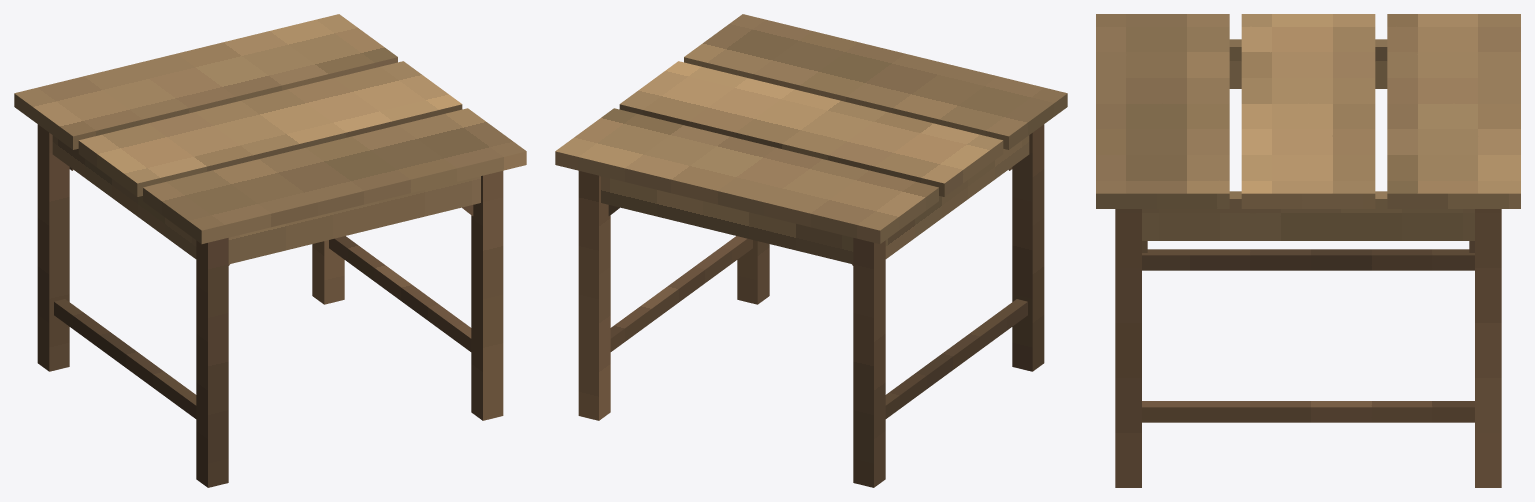
File: wood-square-table.glb
3 renders of one model, left to right at view 1: azimuth 30°, elevation 25°; view 2: azimuth 150°, elevation 25°; view 3: azimuth 270°, elevation 25°, orthographic. The views are drawn at different scales.
Visible parts, largest first — view 1: wood-square-table/top-board-0, wood-square-table/top-board-1, wood-square-table/top-board-2, wood-square-table/leg--0.37--0.37, wood-square-table/leg-0.37--0.37, wood-square-table/leg--0.37-0.37, wood-square-table/apron-long--1, wood-square-table/low-end-stretcher--1, wood-square-table/low-end-stretcher-1, wood-square-table/apron-end--1, wood-square-table/leg-0.37-0.37; view 2: wood-square-table/top-board-2, wood-square-table/top-board-1, wood-square-table/top-board-0, wood-square-table/leg--0.37-0.37, wood-square-table/leg-0.37-0.37, wood-square-table/leg--0.37--0.37, wood-square-table/apron-long-1, wood-square-table/low-end-stretcher--1, wood-square-table/low-end-stretcher-1, wood-square-table/apron-end--1, wood-square-table/leg-0.37--0.37; view 3: wood-square-table/top-board-1, wood-square-table/top-board-0, wood-square-table/top-board-2, wood-square-table/apron-end-1, wood-square-table/leg-0.37--0.37, wood-square-table/leg-0.37-0.37, wood-square-table/low-end-stretcher-1, wood-square-table/low-end-stretcher--1, wood-square-table/apron-end--1.
Boxes of the visible parts, <box> form: wood-square-table/top-board-0: <box>143,108,526,243</box>; wood-square-table/top-board-1: <box>78,61,462,196</box>; wood-square-table/top-board-2: <box>14,14,397,149</box>; wood-square-table/leg--0.37--0.37: <box>196,238,228,487</box>; wood-square-table/leg-0.37--0.37: <box>471,171,503,420</box>; wood-square-table/leg--0.37-0.37: <box>37,124,69,371</box>; wood-square-table/apron-long--1: <box>228,176,480,264</box>; wood-square-table/low-end-stretcher--1: <box>54,299,196,418</box>; wood-square-table/low-end-stretcher-1: <box>329,236,471,351</box>; wood-square-table/apron-end--1: <box>52,135,196,258</box>; wood-square-table/leg-0.37-0.37: <box>312,240,344,304</box>; wood-square-table/top-board-2: <box>555,108,938,243</box>; wood-square-table/top-board-1: <box>619,61,1003,196</box>; wood-square-table/top-board-0: <box>684,14,1067,149</box>; wood-square-table/leg--0.37-0.37: <box>853,238,885,487</box>; wood-square-table/leg-0.37-0.37: <box>578,171,610,420</box>; wood-square-table/leg--0.37--0.37: <box>1012,124,1044,371</box>; wood-square-table/apron-long-1: <box>601,176,853,264</box>; wood-square-table/low-end-stretcher--1: <box>885,299,1027,418</box>; wood-square-table/low-end-stretcher-1: <box>610,236,752,351</box>; wood-square-table/apron-end--1: <box>885,135,1029,258</box>; wood-square-table/leg-0.37--0.37: <box>737,240,769,304</box>; wood-square-table/top-board-1: <box>1241,14,1375,208</box>; wood-square-table/top-board-0: <box>1096,14,1229,208</box>; wood-square-table/top-board-2: <box>1387,14,1520,208</box>; wood-square-table/apron-end-1: <box>1142,191,1474,240</box>; wood-square-table/leg-0.37--0.37: <box>1115,209,1141,487</box>; wood-square-table/leg-0.37-0.37: <box>1475,209,1501,487</box>; wood-square-table/low-end-stretcher-1: <box>1142,401,1474,422</box>; wood-square-table/low-end-stretcher--1: <box>1142,249,1474,270</box>; wood-square-table/apron-end--1: <box>1229,39,1387,88</box>.
Size of the model in its own units: 0.875 by 0.6875 by 0.875.
2 materials, 2 textured.
